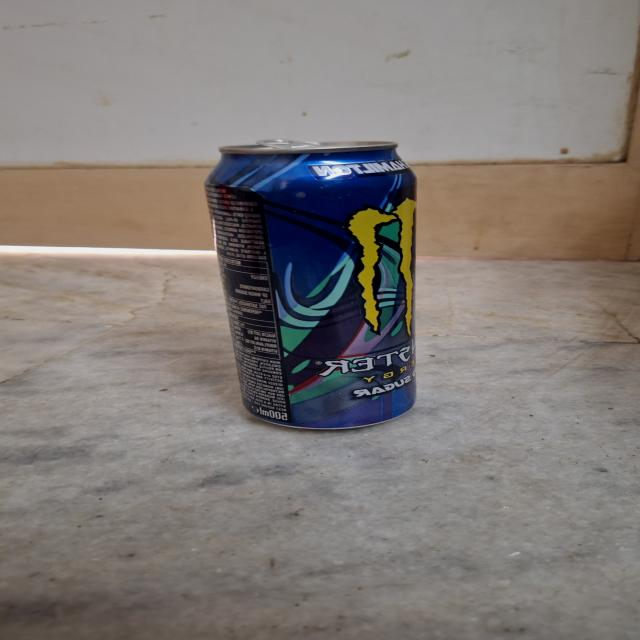Monster LH44: (206, 137, 412, 435)
